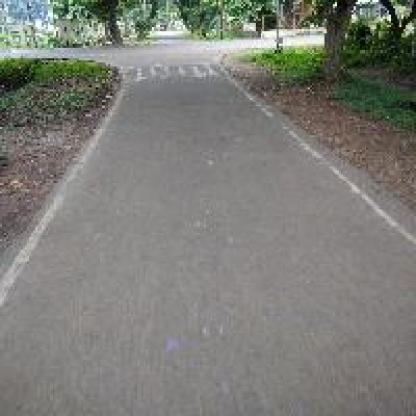Speed Bump: (120, 63, 222, 81)
